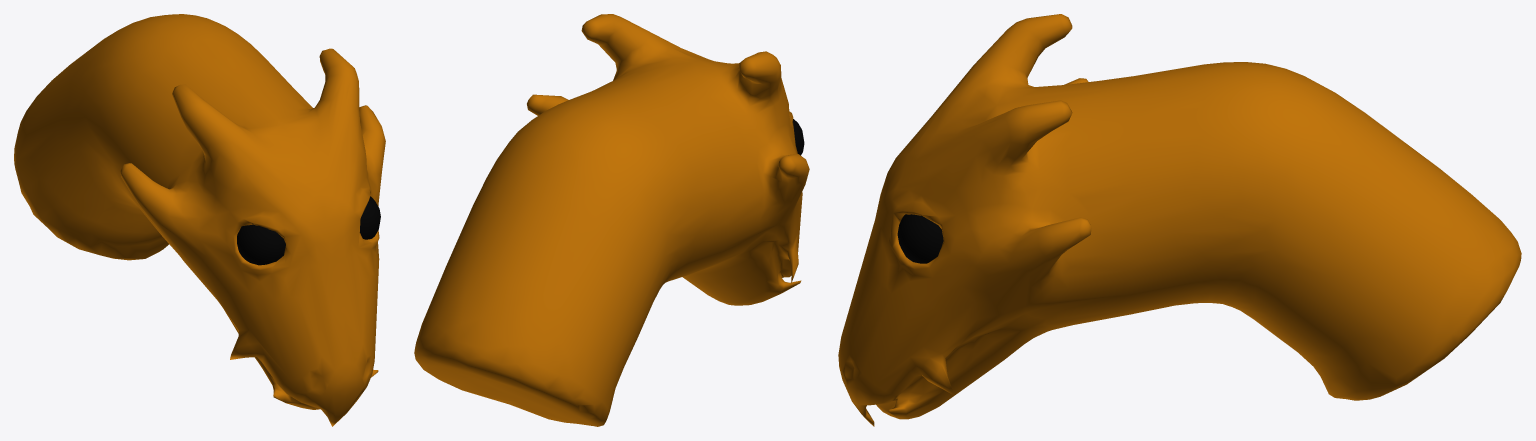
Rendered from dragon.fbx.
3 views of the same model, side by side, from view 1: azimuth 30°, elevation 25°; view 2: azimuth 150°, elevation 25°; view 3: azimuth 270°, elevation 25° (orthographic). The views are drawn at different scales.
Visible parts, largest first — view 1: dragon_lowpoly, Sphere.001, Sphere.002; view 2: dragon_lowpoly; view 3: dragon_lowpoly, Sphere.002.
Boxes of the visible parts, x1,y1,x2,y2 form: dragon_lowpoly: (14, 14, 385, 426); Sphere.001: (237, 224, 285, 265); Sphere.002: (360, 196, 380, 239); dragon_lowpoly: (414, 14, 809, 426); dragon_lowpoly: (838, 14, 1521, 426); Sphere.002: (897, 214, 943, 263).
Bounding box in the file's own units: 567 × 655 × 1100.
